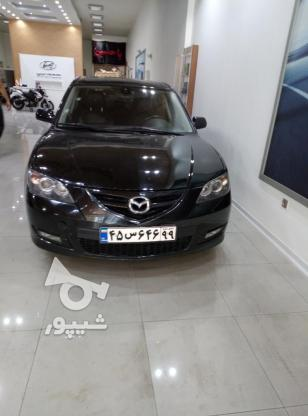car: (98, 224, 176, 244)
